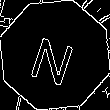N_N: (28, 25, 82, 85)
